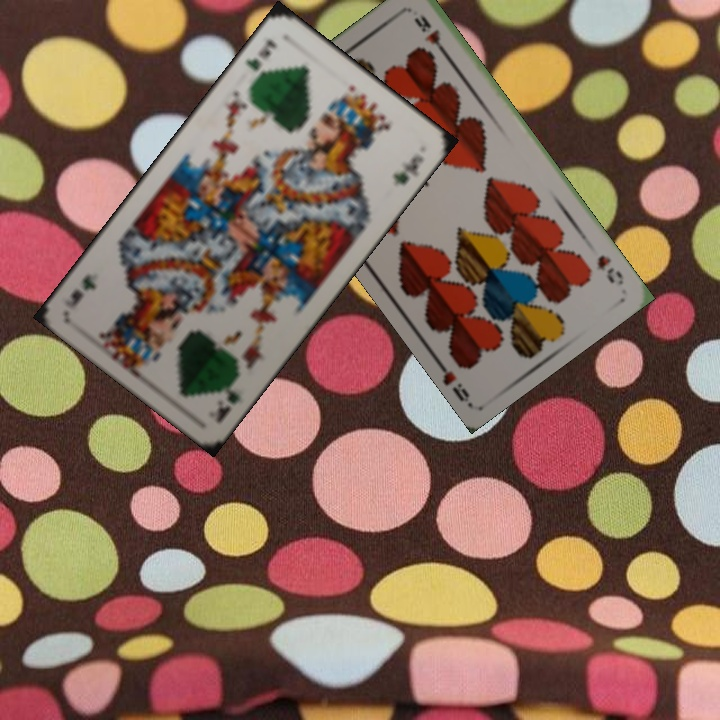GK: (241, 35, 280, 74), (211, 386, 243, 426)
H9: (593, 250, 627, 288)
